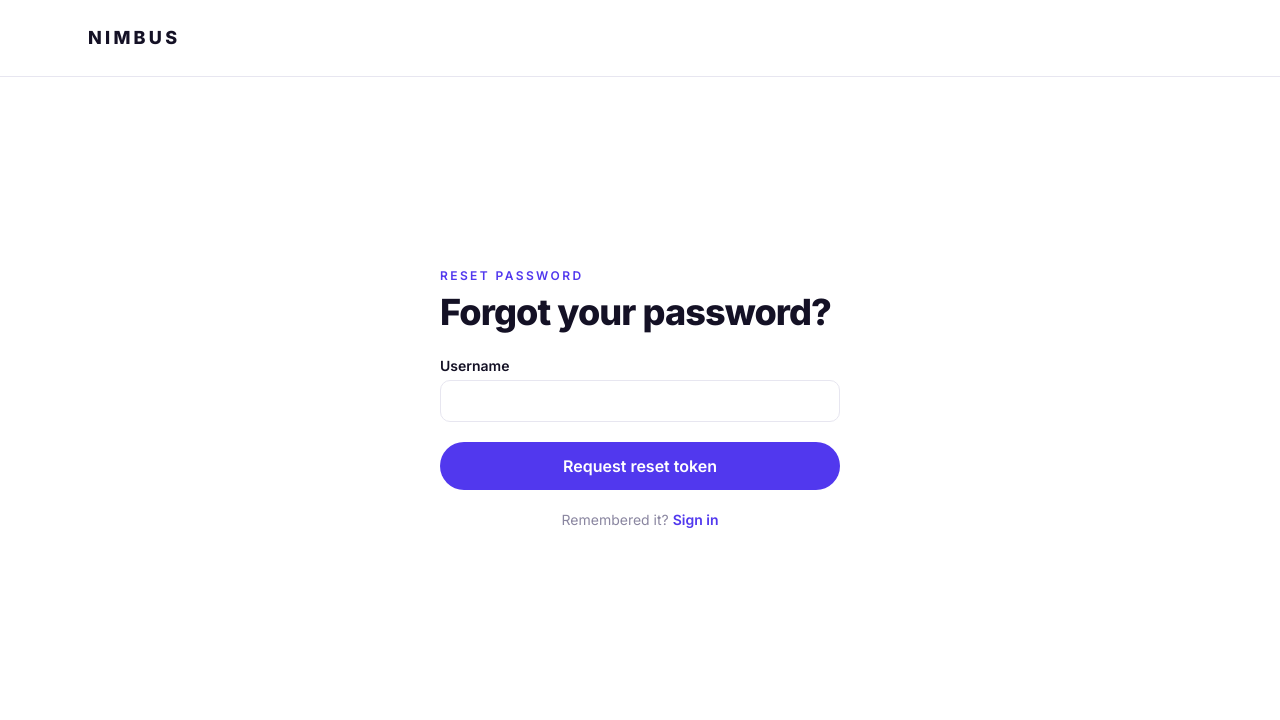
Test: PasswordResetRequestPage › reveals the token and the trade-off note on success
Type "admin" into the field labelled "Username".
click(640, 400); type("admin")  # box [440,380,840,422]
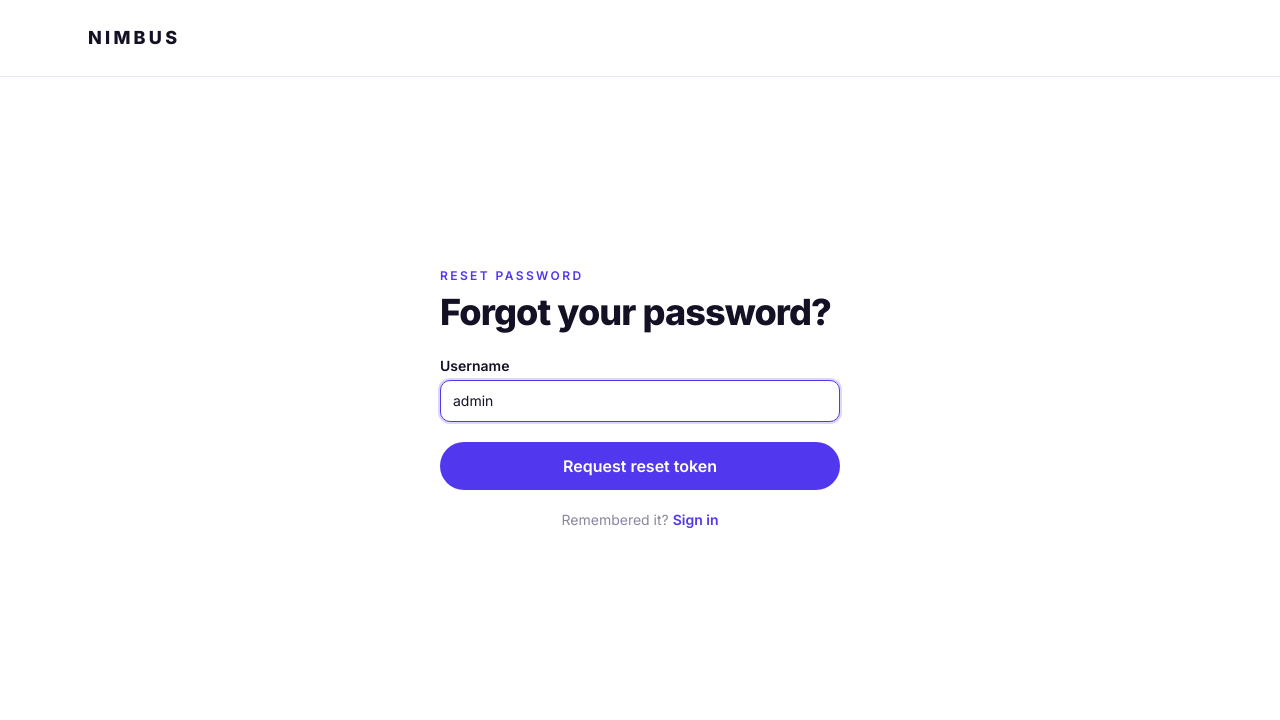
Click the button "Request reset token".
click(640, 466)  # box [440,442,840,490]
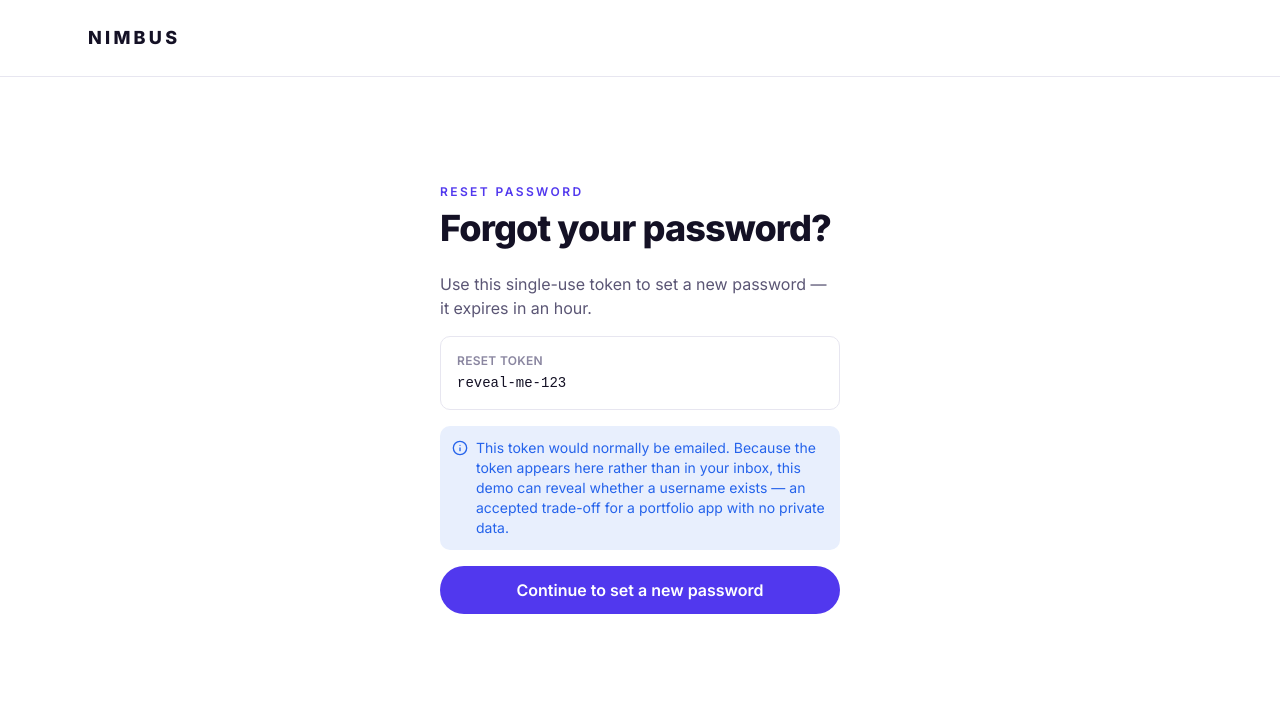
Now the text "reveal-me-123" is shown, box [457,374,566,390]
Now the element that starts with "This token would normally be emailed." is shown, box [476,438,730,456]
Now the element that starts with "This token would normally be emailed." shows "trade-off", box [476,438,825,536]
